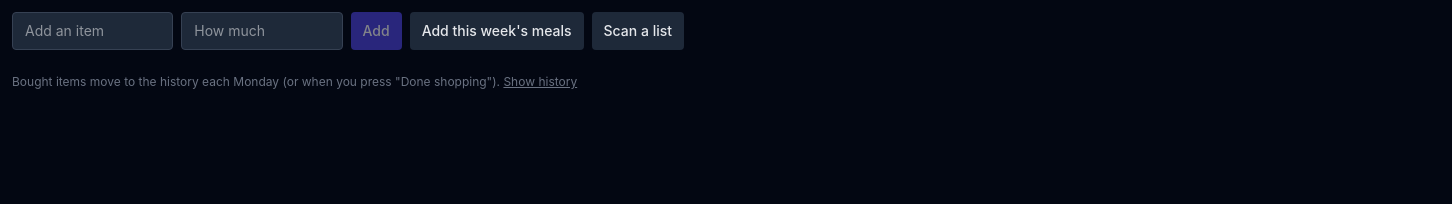
Scenario: offline banner, sync and conflicts › adds an item offline and shows it right away
In the field named "New item": (93, 31) [12,12,173,50], type "Coffee"
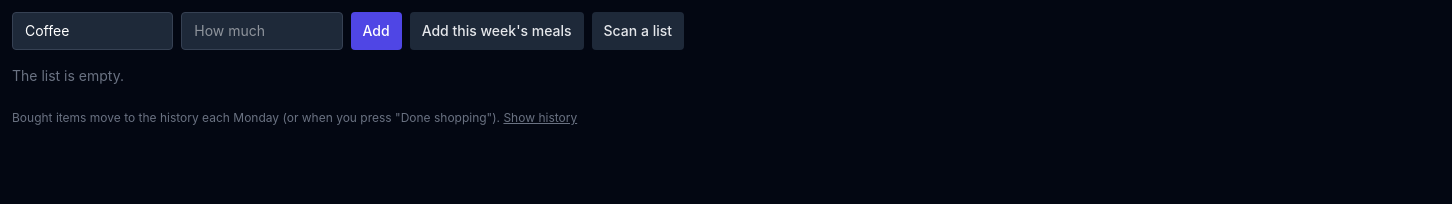
Click the button "Add": (376, 31) [350,12,402,50]
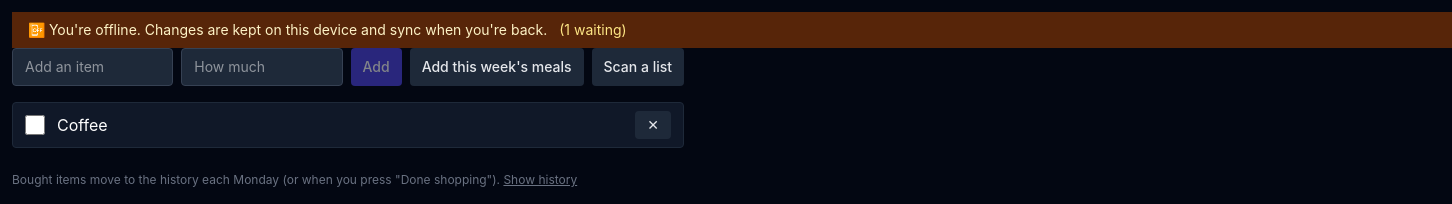
Result: the text "Coffee" is shown at [57,115,108,135]
